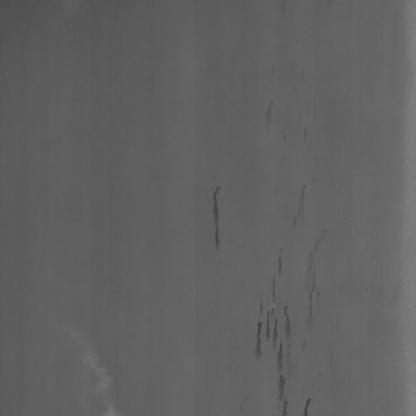water_spot: (253, 267, 292, 380), (300, 218, 327, 314), (202, 170, 225, 258), (276, 369, 296, 415)
